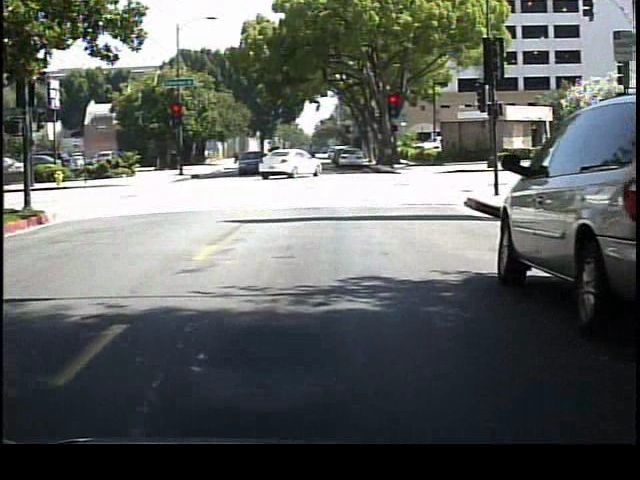person: (303, 142, 319, 177)
